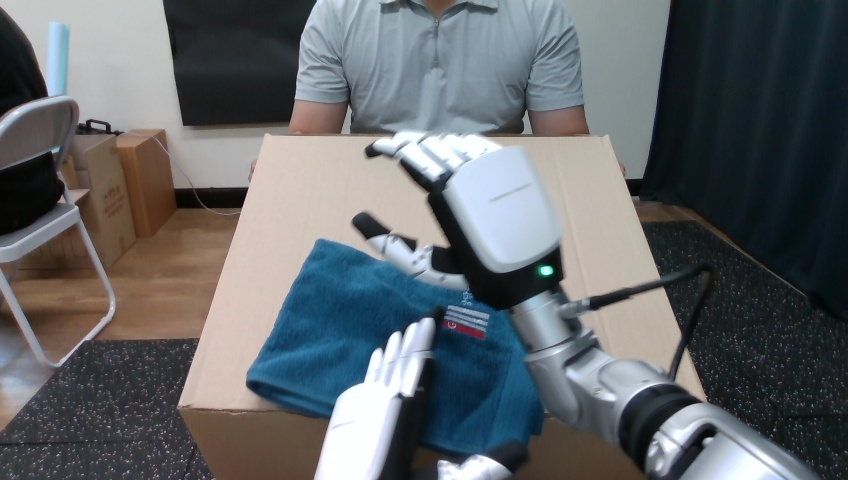left robot hand: (353, 131, 815, 478)
